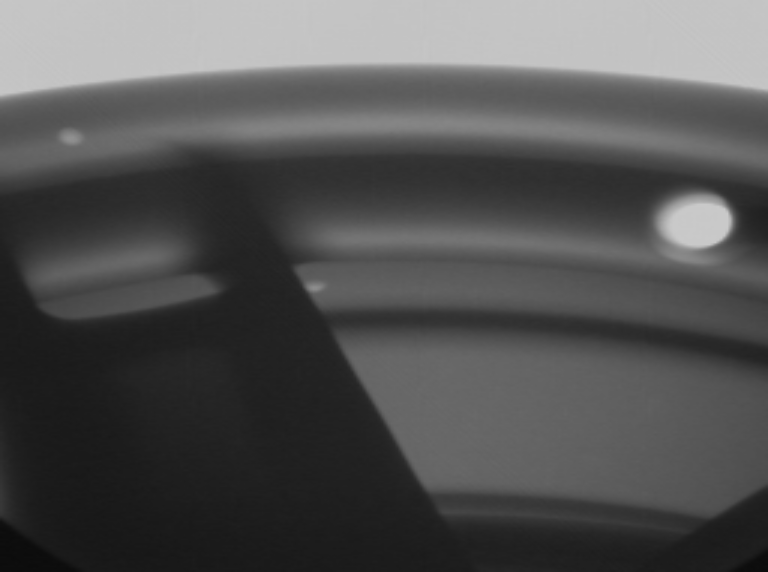defect: (48, 123, 102, 154)
